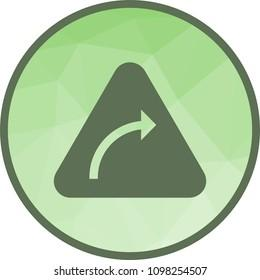Right Hand Curve: (58, 63, 196, 205)
